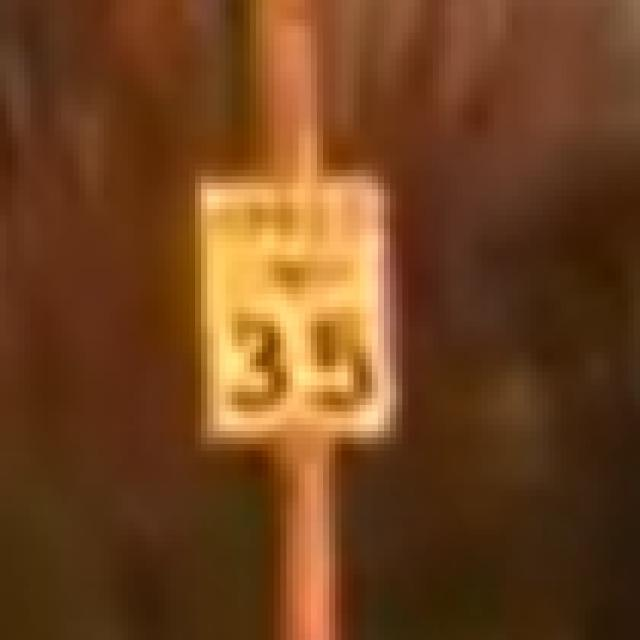speedLimit35: (195, 172, 393, 438)
